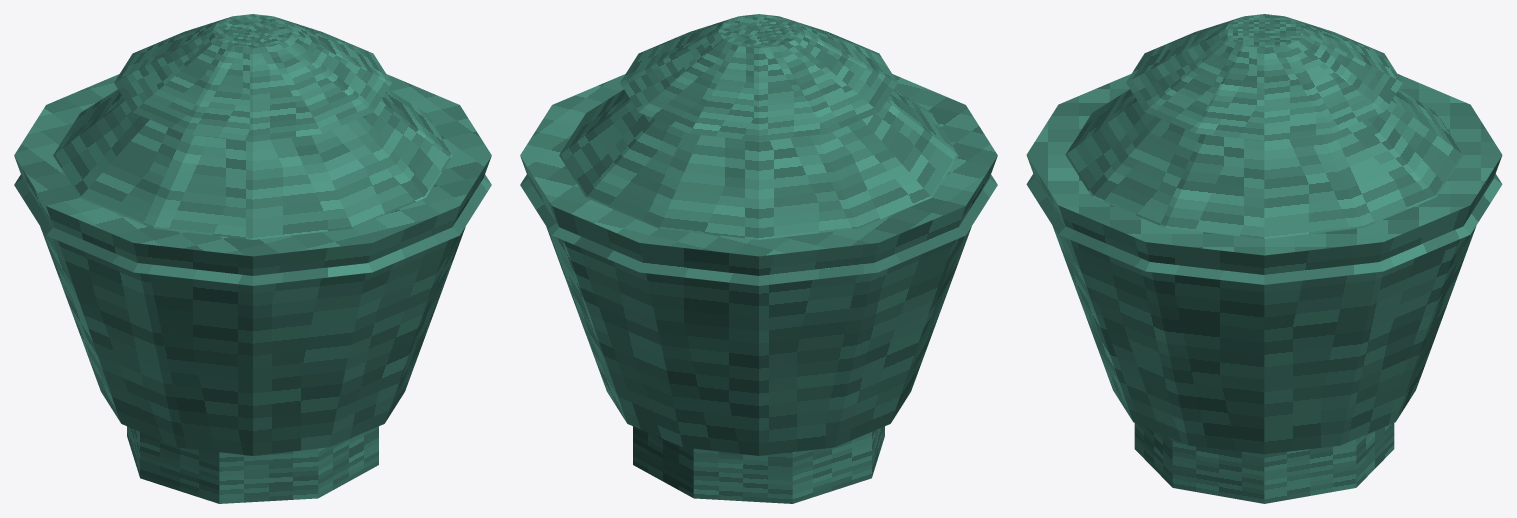
Rendered from urn_39.glb.
3 renders of one model, left to right at view 1: azimuth 30°, elevation 25°; view 2: azimuth 150°, elevation 25°; view 3: azimuth 270°, elevation 25°, orthographic.
Parts seen in each view (by area): view 1: Belly, Neck, Lid, Foot; view 2: Belly, Neck, Lid, Foot; view 3: Belly, Neck, Lid, Foot.
Part boxes in pixels (x1,y1,x2,y2): Belly: [14, 74, 491, 455]; Neck: [14, 89, 491, 285]; Lid: [114, 14, 391, 141]; Foot: [127, 426, 378, 503]; Belly: [520, 74, 997, 455]; Neck: [520, 89, 997, 285]; Lid: [620, 14, 897, 141]; Foot: [633, 426, 884, 503]; Belly: [1026, 74, 1502, 454]; Neck: [1026, 89, 1502, 284]; Lid: [1126, 14, 1402, 140]; Foot: [1134, 423, 1394, 503].
Bounding box in the file's own units: 1.17 × 1.14 × 1.17.
Materials: 1 (1 with a texture image).
